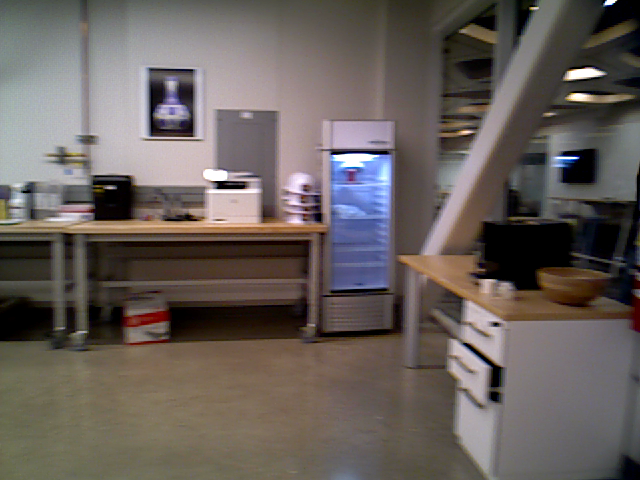painting2: (138, 67, 203, 141)
